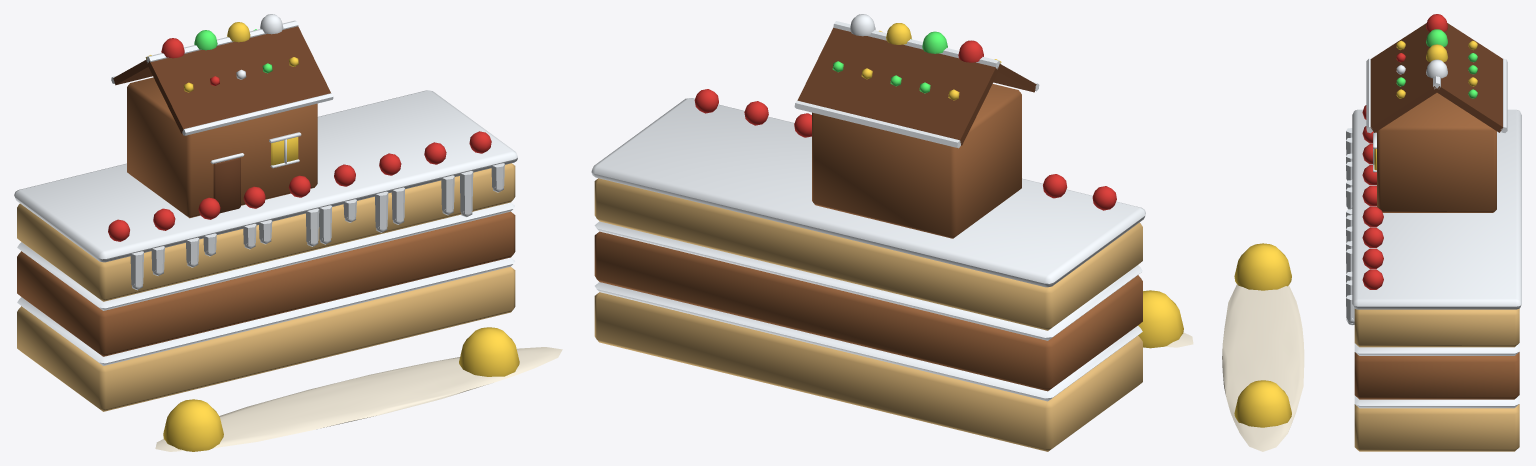
Rendered from CandyWallB.fbx.
3 renders of one model, left to right at view 1: azimuth 30°, elevation 25°; view 2: azimuth 150°, elevation 25°; view 3: azimuth 270°, elevation 25°, orthographic. The views are drawn at different scales.
Visible parts, largest first — view 1: CandyWallB; view 2: CandyWallB; view 3: CandyWallB.
Part boxes in pixels (<box>): CandyWallB: <box>14,14,562,451</box>; CandyWallB: <box>591,14,1193,451</box>; CandyWallB: <box>1222,14,1521,451</box>.
Size of the model in its own units: 7.66 by 5.51 by 5.
2 materials, 2 textured.
